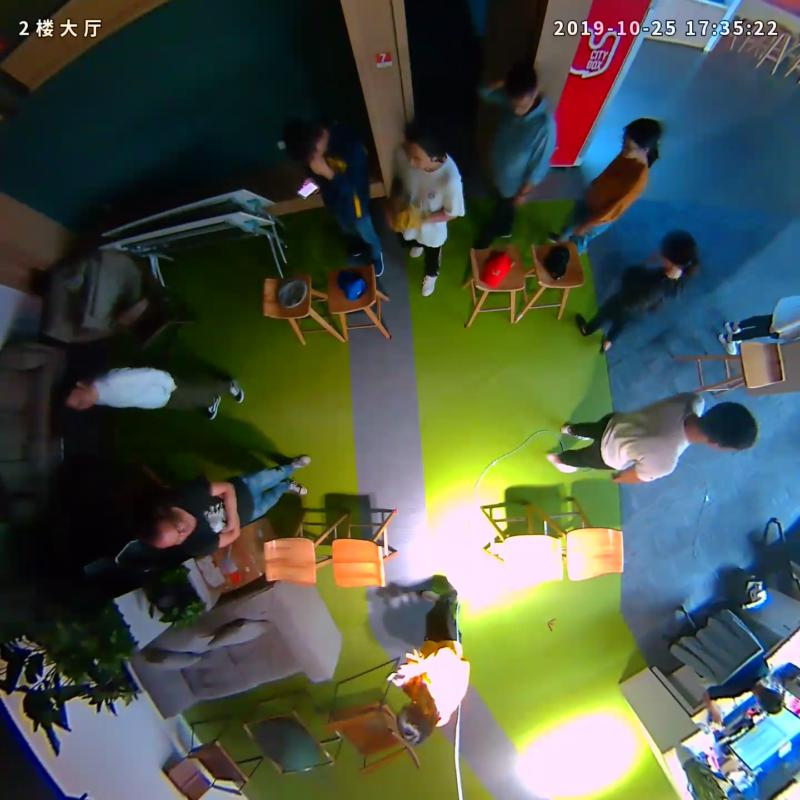head: (698, 402, 757, 454), (132, 503, 193, 548), (402, 116, 449, 170), (282, 111, 329, 159), (505, 63, 541, 116), (621, 117, 665, 159), (396, 697, 436, 743), (657, 230, 698, 273), (57, 379, 95, 413)
